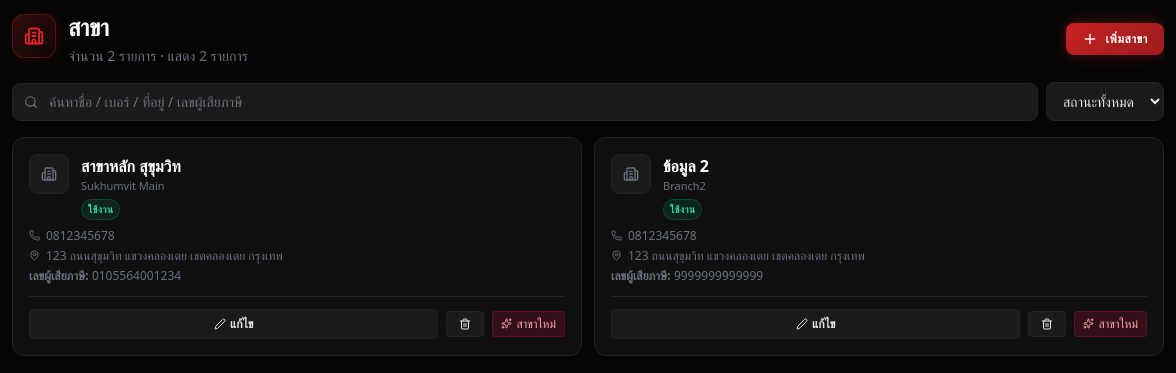
it: BranchesTab — BT1..BT6 › BT3: search matches nameEn + taxId
The width and height of the screenshot is (1176, 373).
Expected: the heading "สาขาหลัก สุขุมวิท" is shown, [81,154,181,178]
In the field with placeholder "ค้นหาชื่อ / เบอร์ / ที่อยู่ / เลขผู้เสียภาษี": (525, 102) [12,82,1038,120], type "9999"
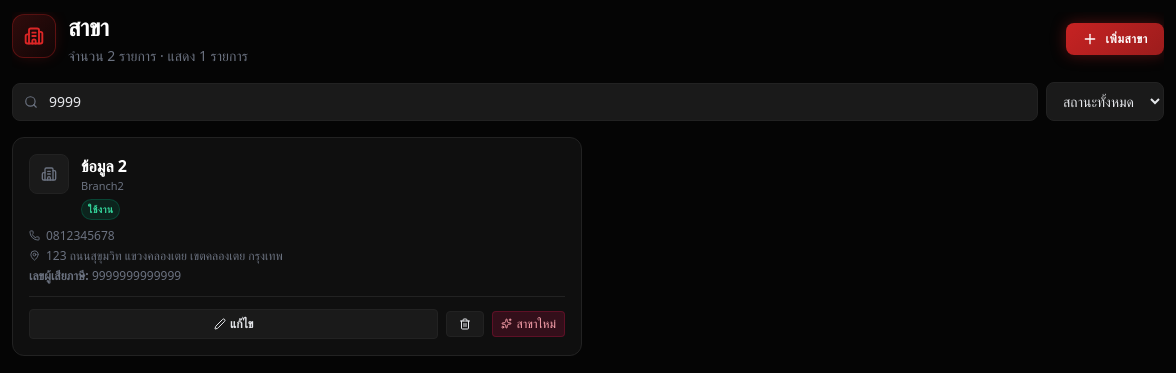
Expected: the heading "ข้อมูล 2" is shown, [81,154,127,178]
Now the heading "สาขาหลัก สุขุมวิท" is gone
